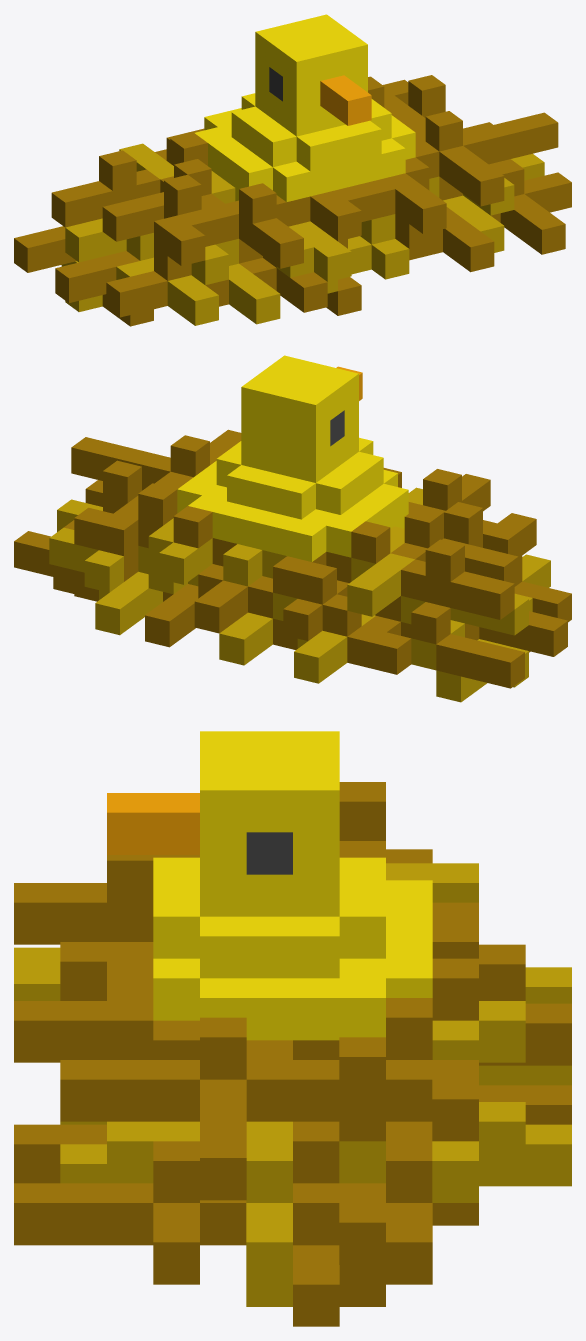
Rendered from accessories_head_birdnest.glb.
The picture shows the model from 3 angles, top to bottom: view 1: azimuth 30°, elevation 25°; view 2: azimuth 150°, elevation 25°; view 3: azimuth 270°, elevation 25°; orthographic projection. The views are drawn at different scales.
Visible parts, largest first — view 1: model_0; view 2: model_0; view 3: model_0.
Boxes of the visible parts, bbox=[...] form: model_0: bbox=[14, 14, 571, 326]; model_0: bbox=[14, 355, 571, 702]; model_0: bbox=[14, 731, 571, 1326].
Size of the model in its own units: 20 by 9 by 12.
